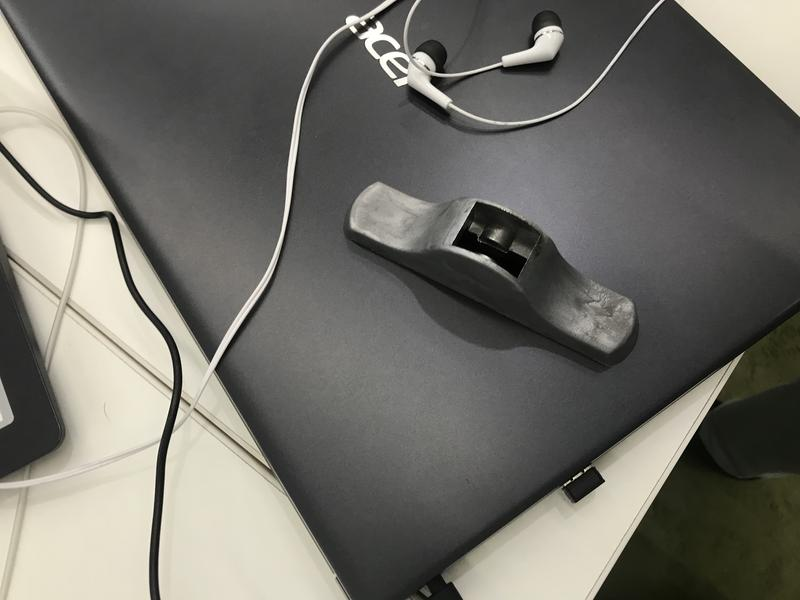zapchast: (337, 168, 651, 391)
